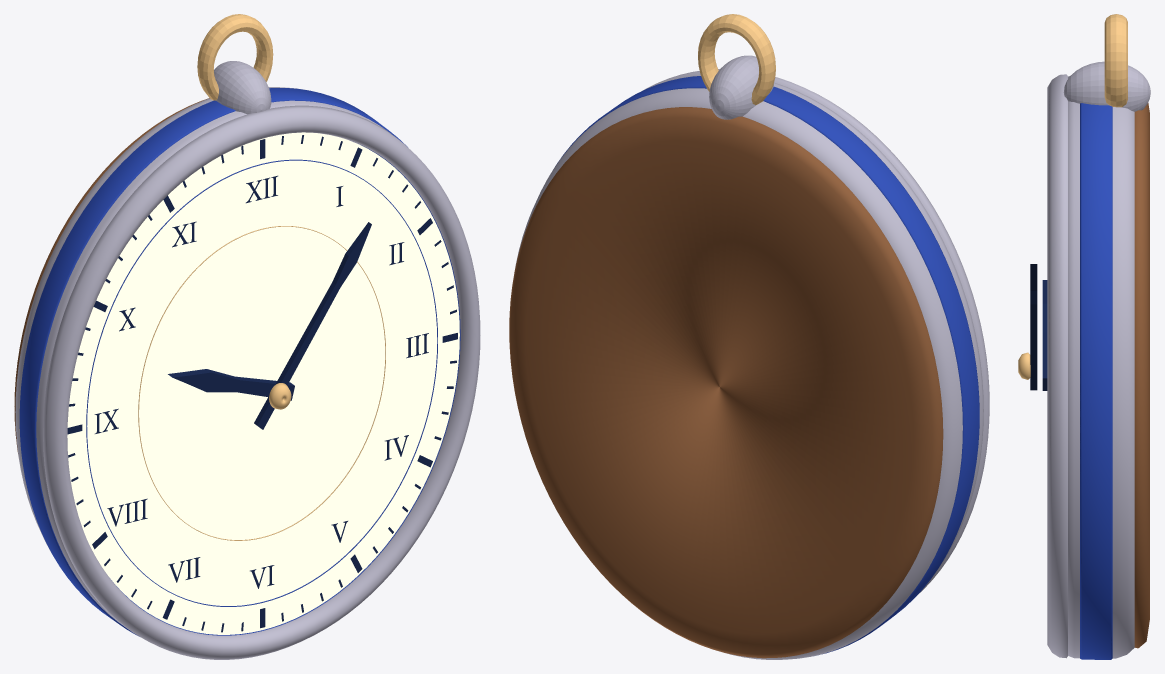
The model's file is clock-2.glb.
3 renders of one model, left to right at view 1: azimuth 30°, elevation 25°; view 2: azimuth 150°, elevation 25°; view 3: azimuth 270°, elevation 25°, orthographic. The views are drawn at different scales.
Visible parts, largest first — view 1: Clock case and dial; view 2: Clock case and dial; view 3: Clock case and dial.
Boxes of the visible parts, box(x1,y1,x2,y2) form: Clock case and dial: box(14, 14, 480, 659); Clock case and dial: box(509, 14, 989, 659); Clock case and dial: box(1018, 14, 1150, 659).
Bounding box in the file's own units: 0.8264 × 1.12 × 0.2166.
